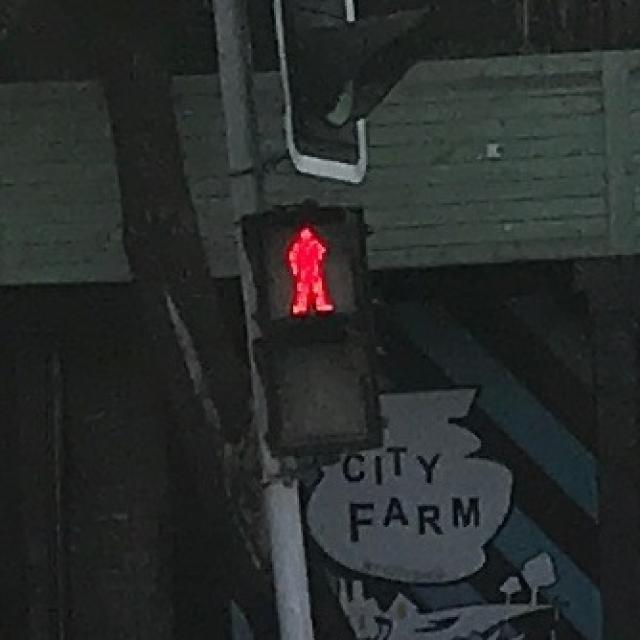red-crossing: (256, 213, 356, 322)
